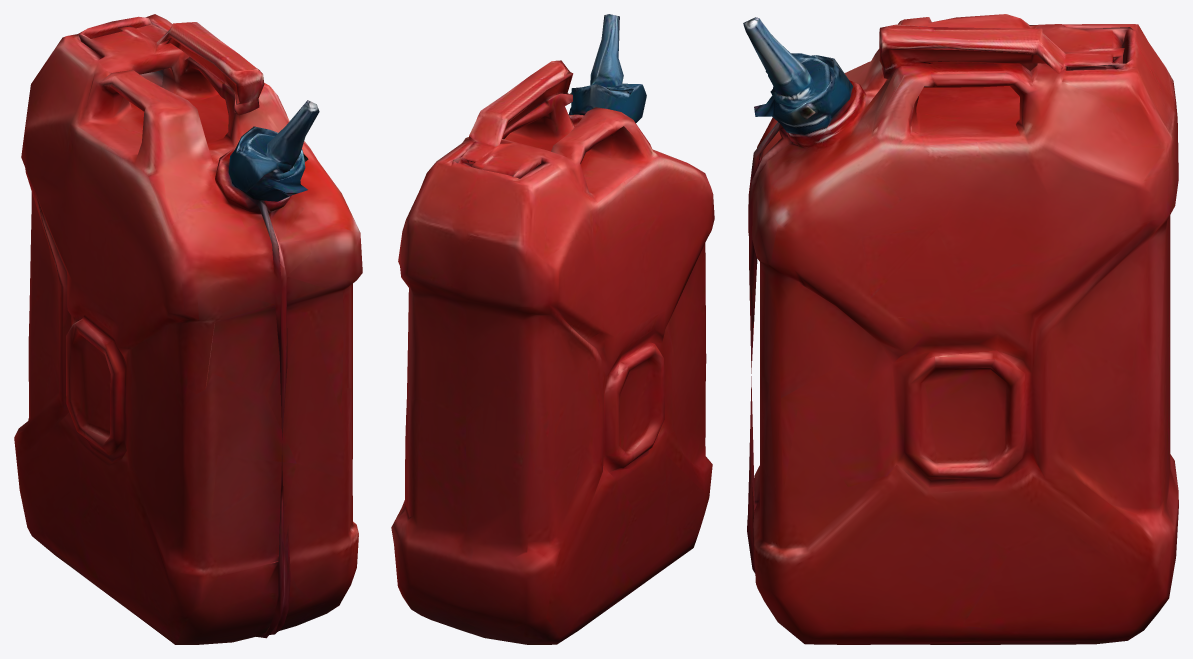
Rendered from it_canister.glb.
3 views of the same model, side by side, from view 1: azimuth 30°, elevation 25°; view 2: azimuth 150°, elevation 25°; view 3: azimuth 270°, elevation 25° (orthographic). The views are drawn at different scales.
Visible parts, largest first — view 1: tripo_node_b587c68d-ad4a-4b14-bc18-0a131acd9003; view 2: tripo_node_b587c68d-ad4a-4b14-bc18-0a131acd9003; view 3: tripo_node_b587c68d-ad4a-4b14-bc18-0a131acd9003.
Boxes of the visible parts, left/top/right/bottom form: tripo_node_b587c68d-ad4a-4b14-bc18-0a131acd9003: left=14, top=14, right=362, bottom=644; tripo_node_b587c68d-ad4a-4b14-bc18-0a131acd9003: left=391, top=14, right=714, bottom=644; tripo_node_b587c68d-ad4a-4b14-bc18-0a131acd9003: left=743, top=14, right=1178, bottom=644.
Bounding box in the file's own units: 0.375 × 1 × 0.6483.
Materials: 1 (1 with a texture image).
